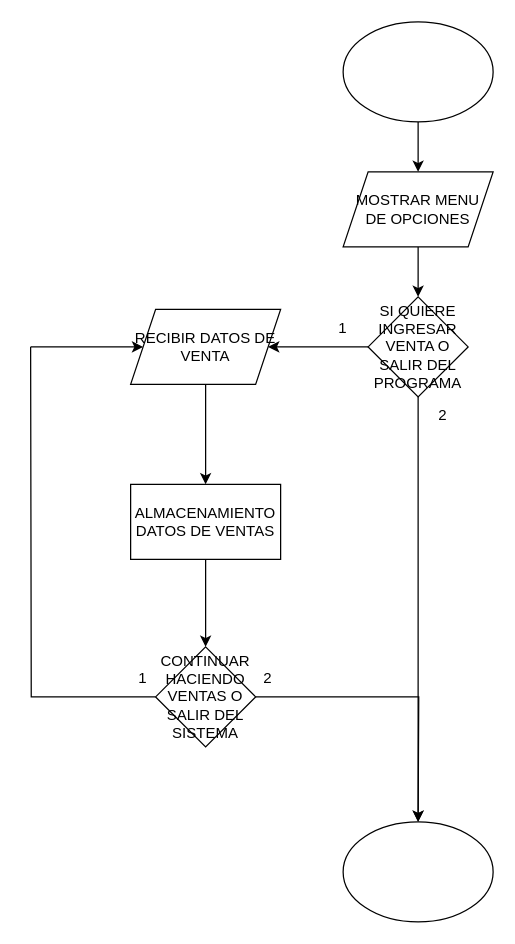
Some shapes in this 515 by 944 pixel diagram are drawn without their labels. The shapes that lost their labels are listed below. From the top down, each one's centre as x and y in pixels, then its label:
(x=417, y=71): INICIO
(x=417, y=871): FIN
